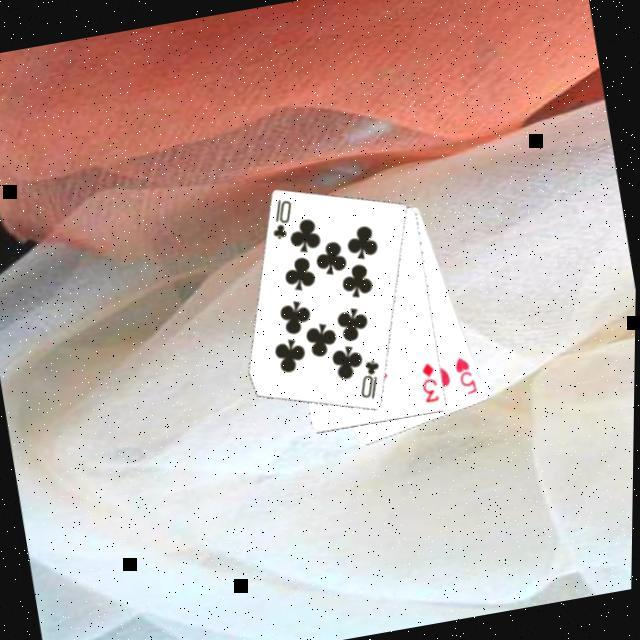10C: (266, 191, 302, 241), (355, 353, 391, 402)
3D: (418, 356, 446, 403)
5H: (452, 350, 484, 397)
